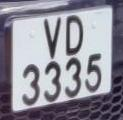3: (19, 58, 44, 110), (41, 59, 66, 106), (63, 55, 86, 102)
5: (83, 50, 105, 98)
D: (62, 13, 86, 59)
V: (40, 15, 65, 61)
